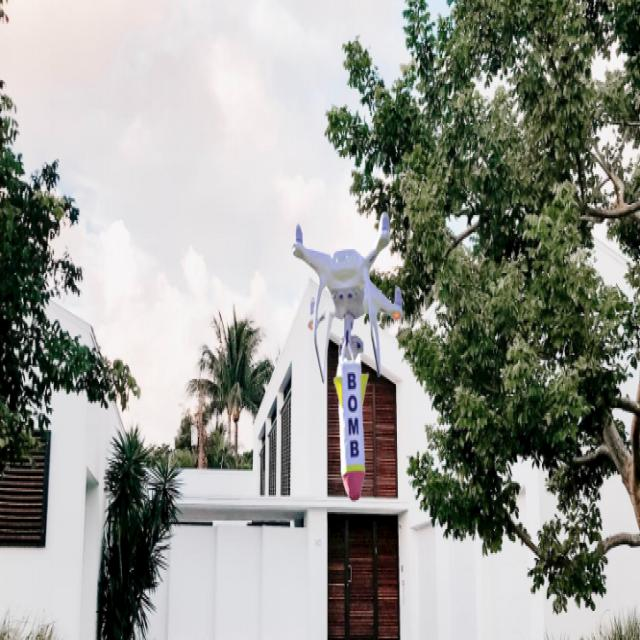drones: (284, 202, 419, 386)
